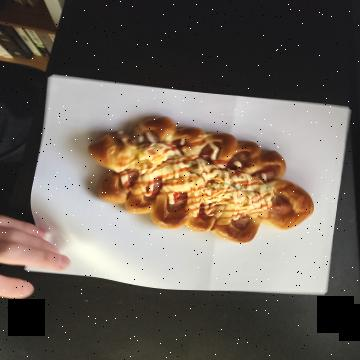pizza_bread: (121, 28, 243, 249)
